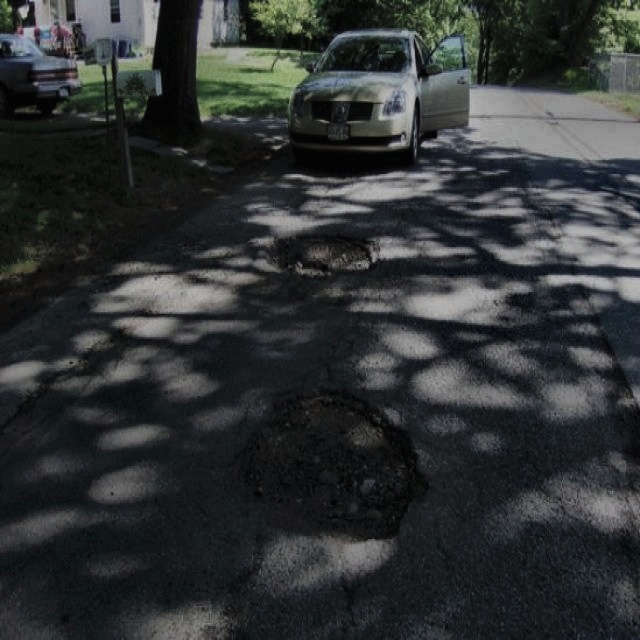Pothole: (227, 382, 434, 544), (264, 225, 378, 283)
